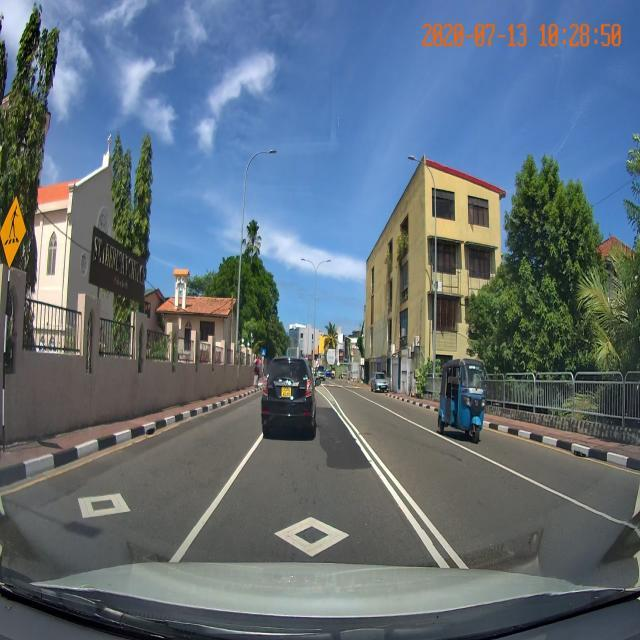diamond: (169, 472, 451, 560)
